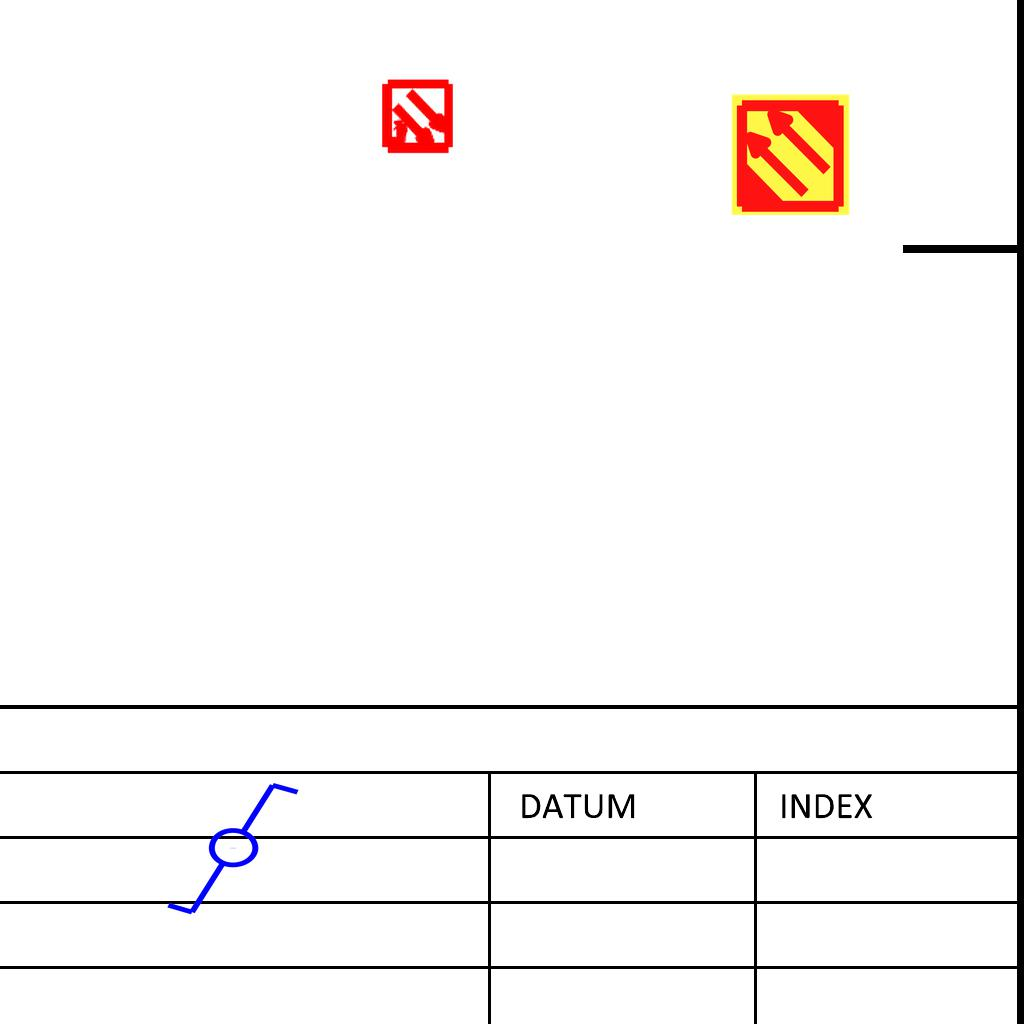ASR_Ansaugrauchmelder: (728, 92, 853, 217)
OT_Multisensormelder_(Kombination_RMO_WMD): (361, 62, 474, 175)
Wechselschalter: (163, 778, 320, 922)
